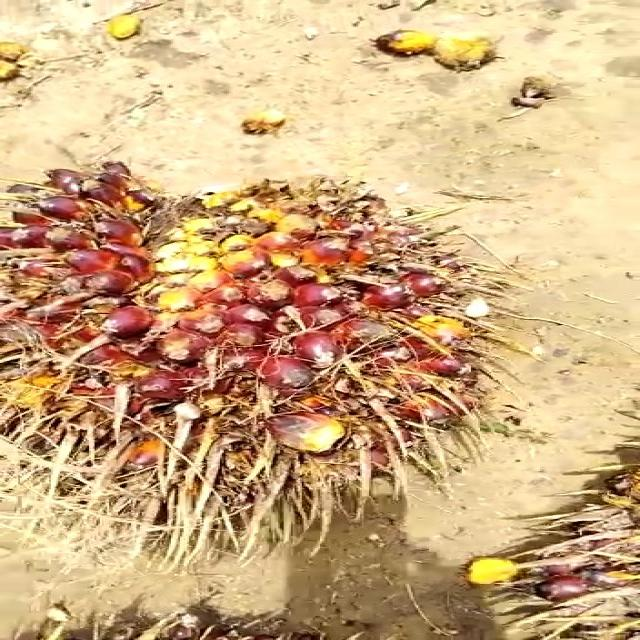palm oil: (0, 147, 532, 535)
